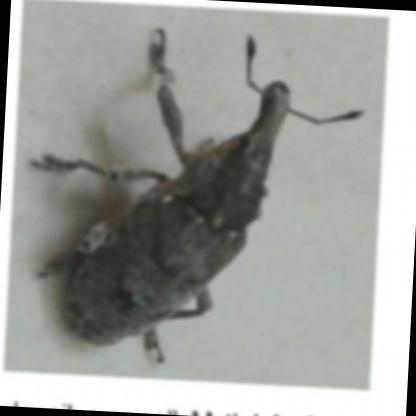ash weevil: (47, 48, 289, 360)
